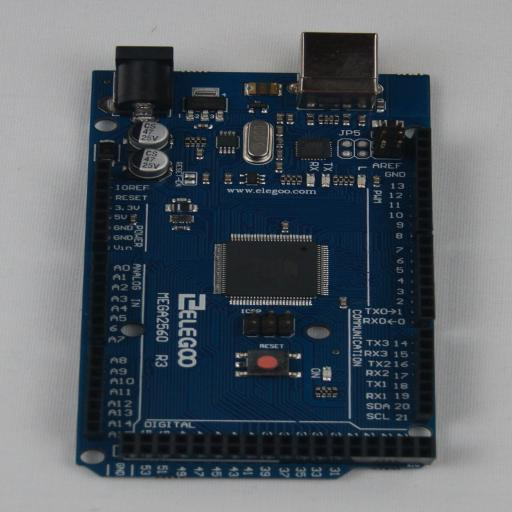Arduino Mega 2560 -Blue-: (76, 32, 436, 477)
